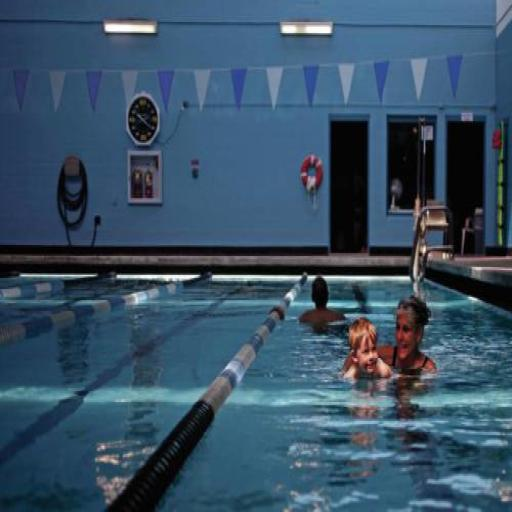swimming: (376, 294, 438, 380), (339, 316, 394, 384), (296, 273, 348, 333)
